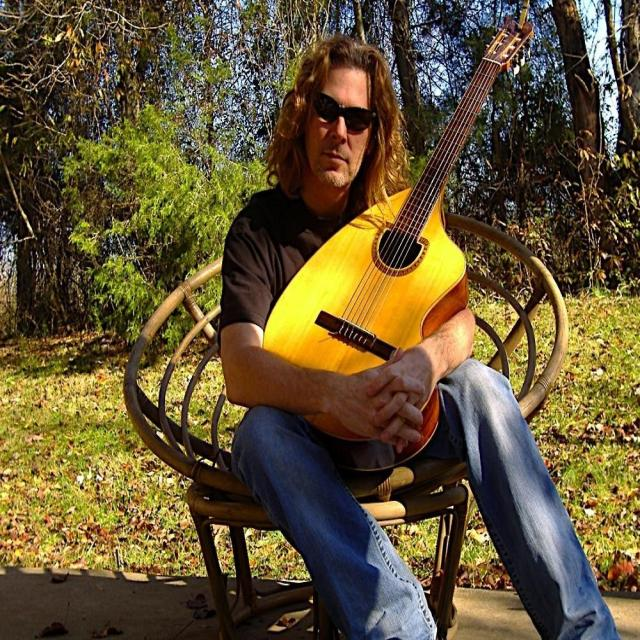guitar: (255, 15, 536, 459)
